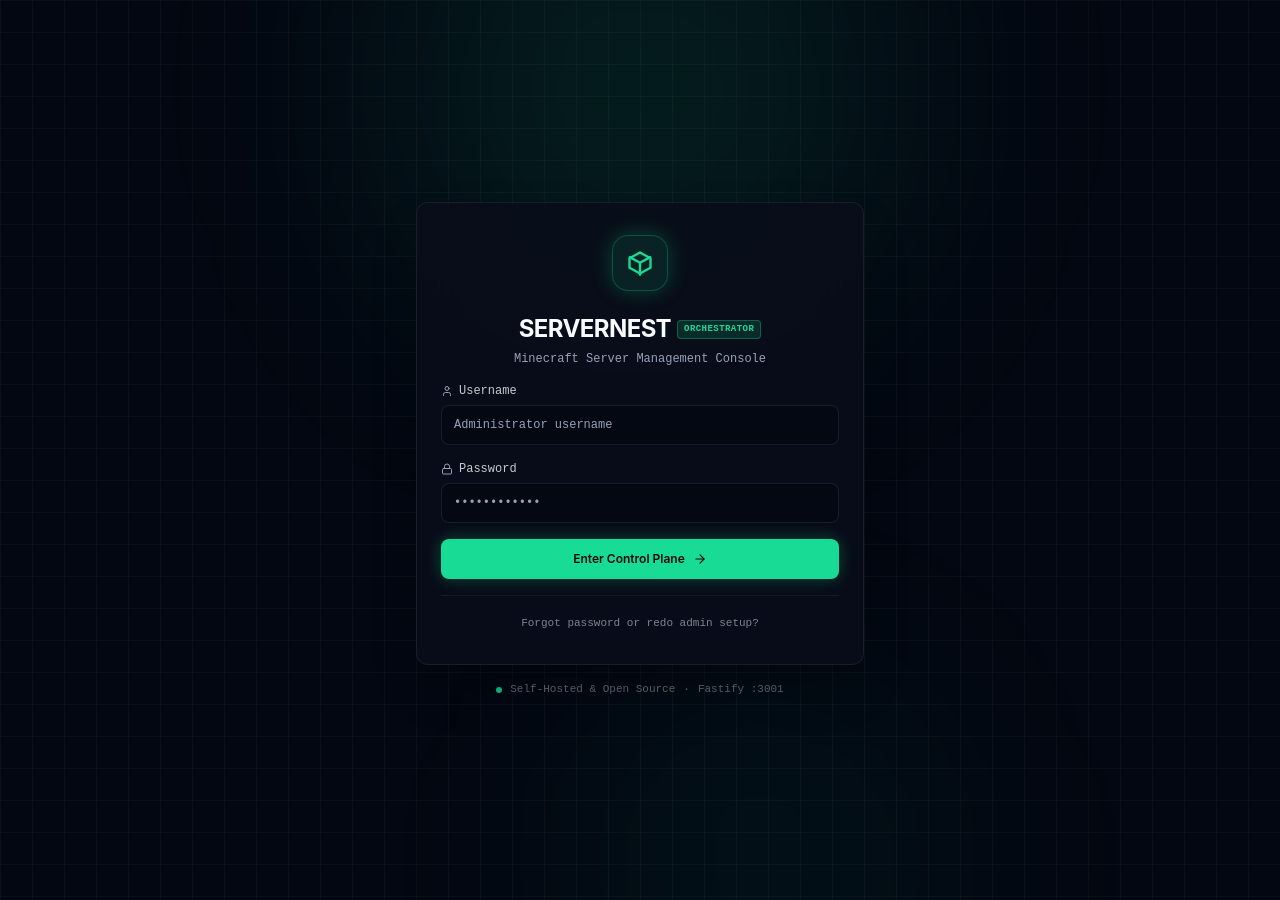
LoginPage › shows TOTP input when login returns requiresTotp
Type "admin" into the field with placeholder "Administrator username".
click(640, 425); type("admin")  # box 441,405 -> 839,445
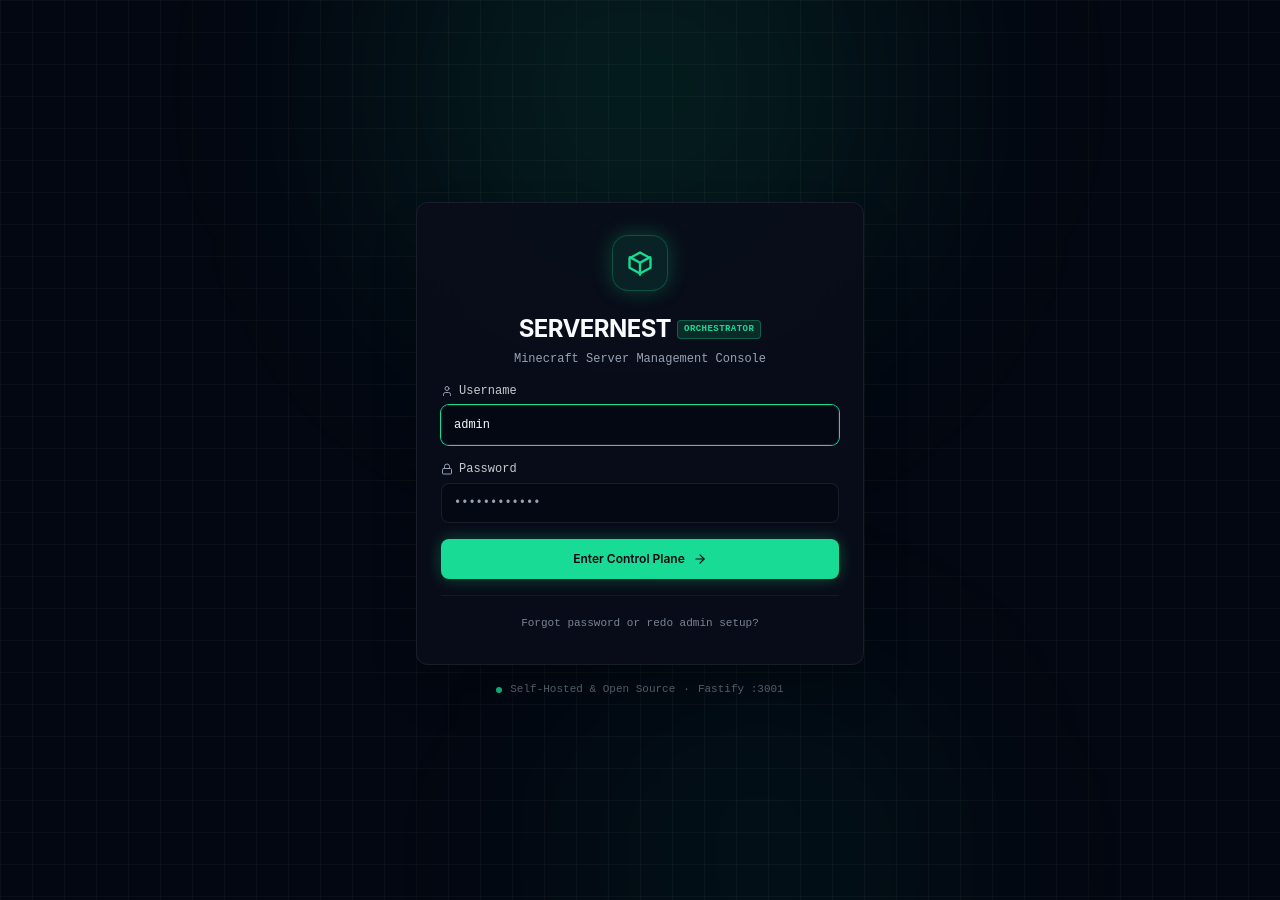
Type "password123" into the password field with placeholder "••••••••••••".
click(640, 503); type("password123")  # box 441,483 -> 839,523
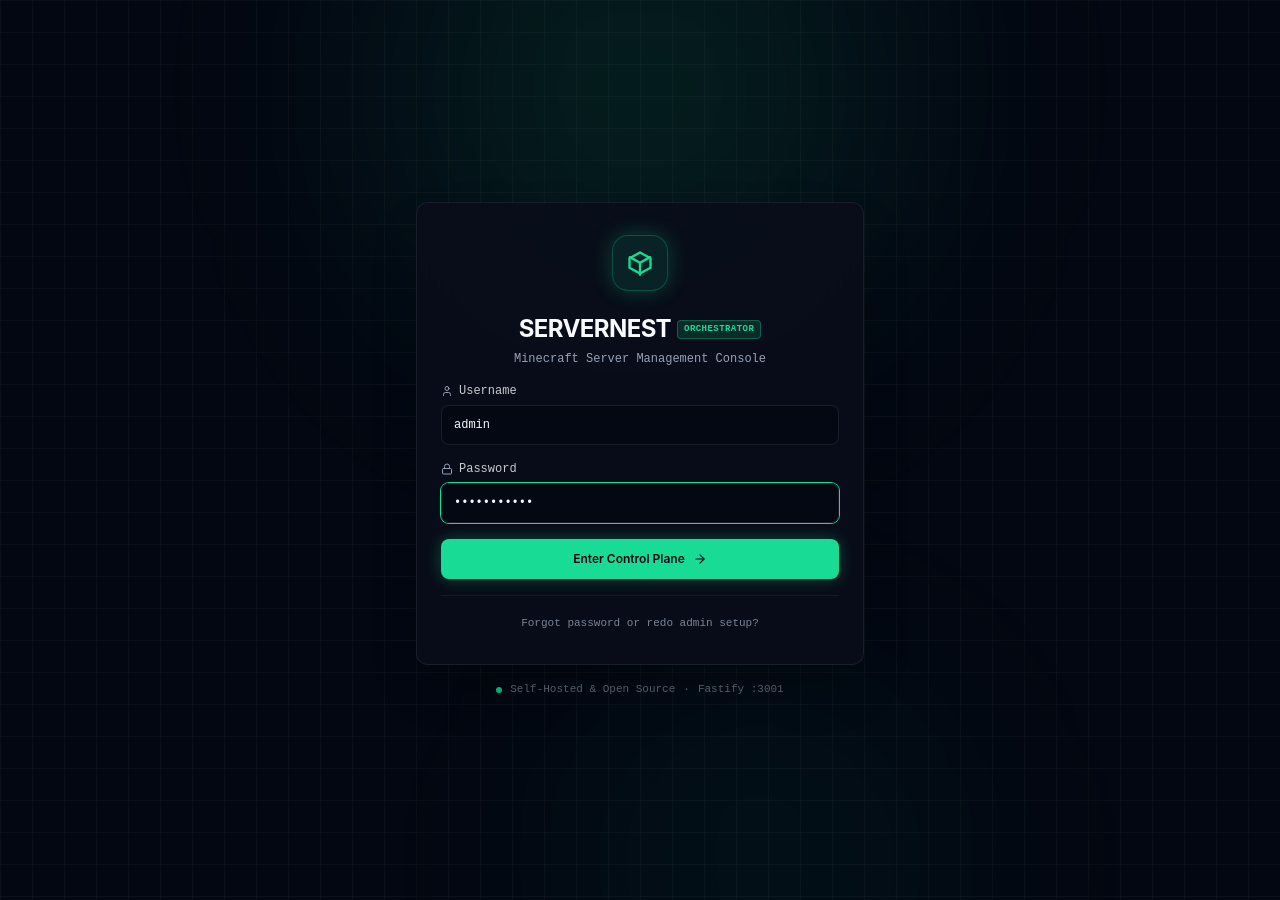
Click the button "Enter Control Plane".
click(640, 559)  # box 441,539 -> 839,579
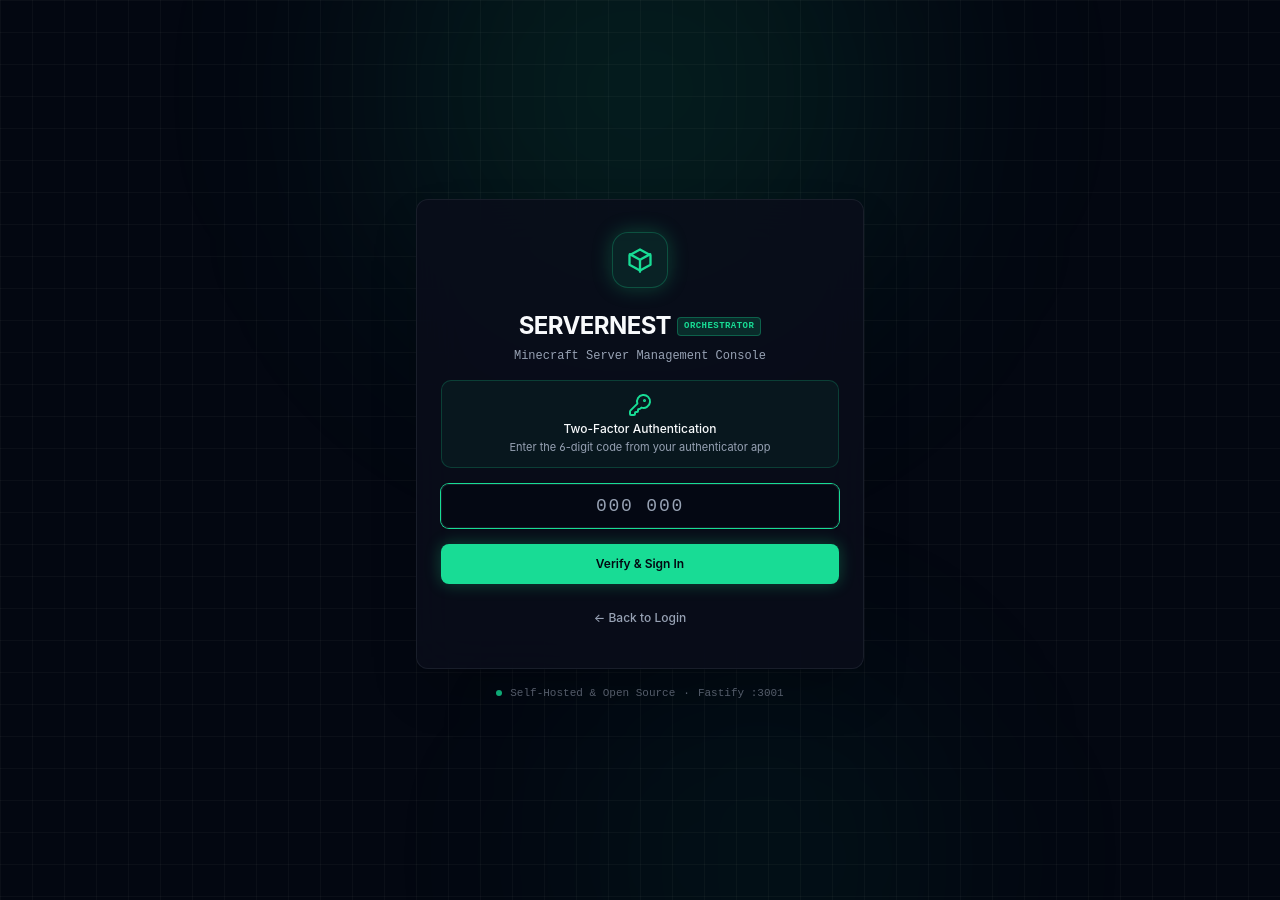
Expected: the field with placeholder "000 000" is shown, 441,484 -> 839,528
